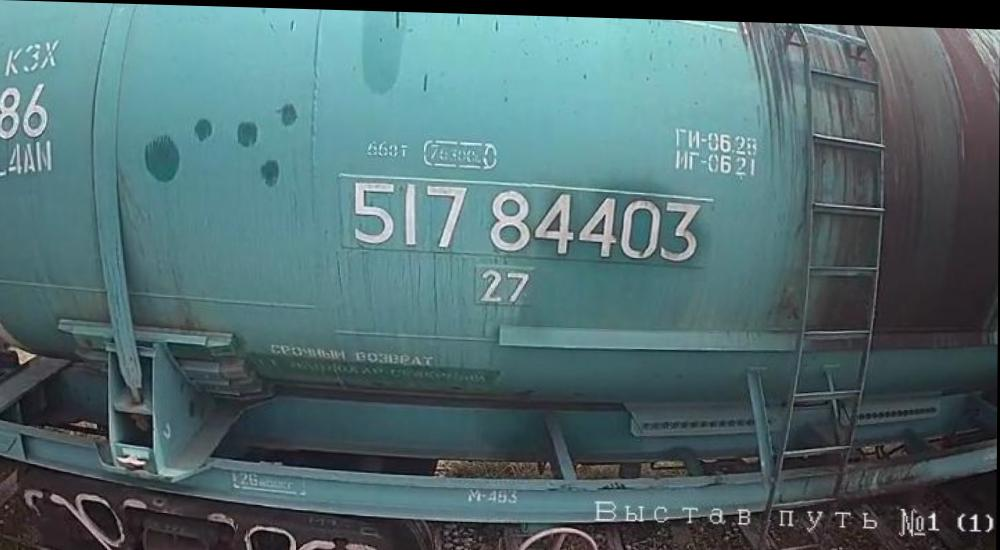Wagon-number: (346, 174, 706, 267)
